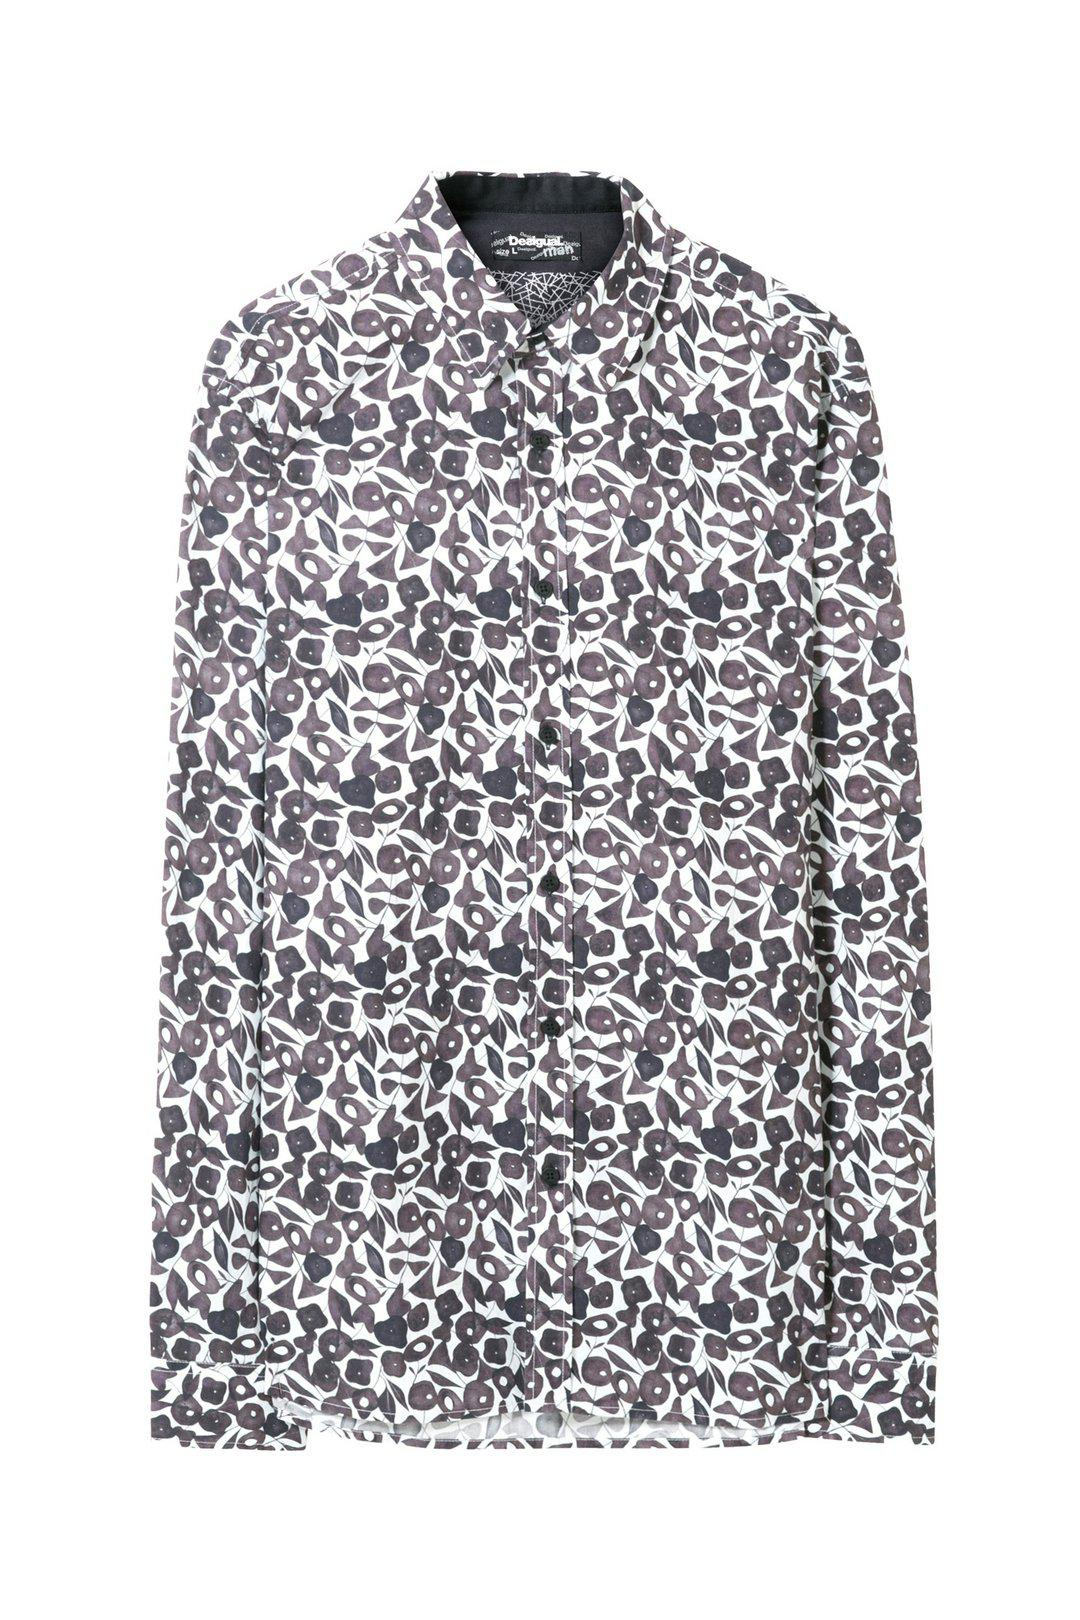teeshirt: (131, 160, 972, 1499)
